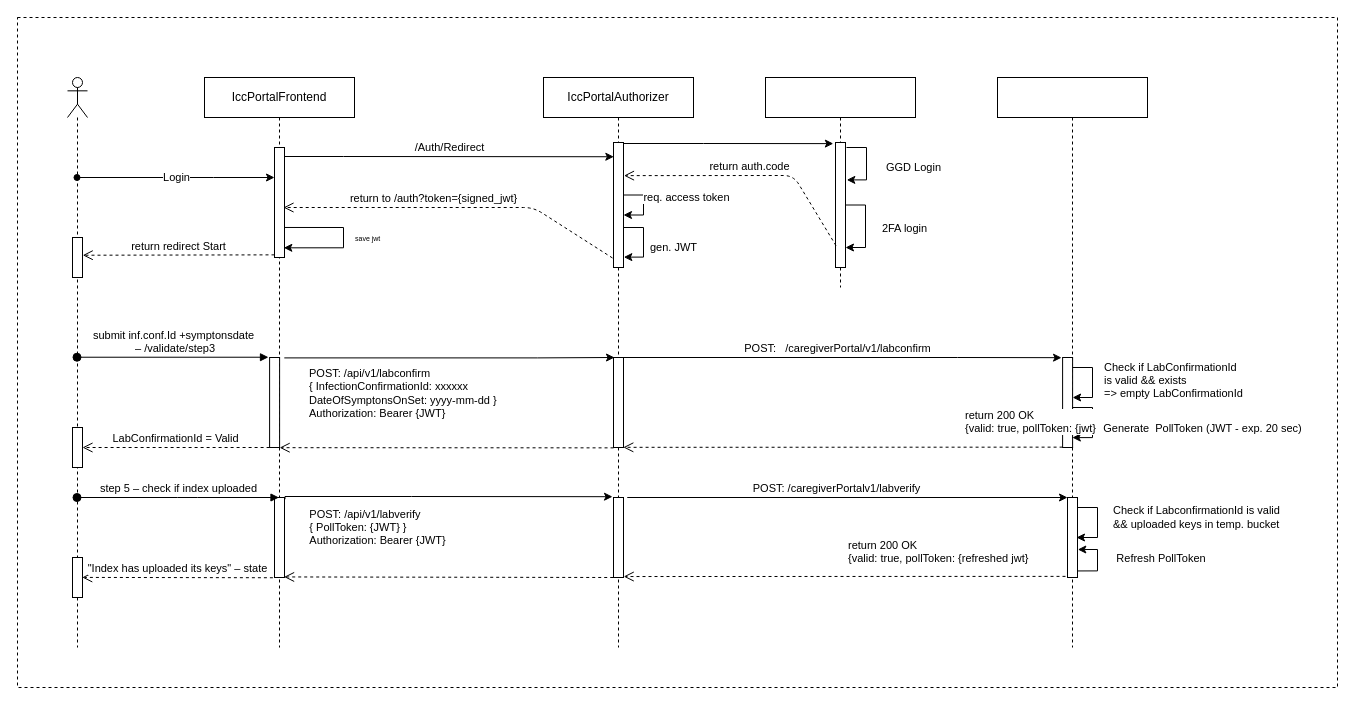
Image size: 1355x705. Some labels were removed from this diagram. The centre of each missing label's shape, as x and y in pixels:
"AppBackend" belongs at point (1072, 362).
"GGDGHOR IdentityHub" belongs at point (840, 182).
